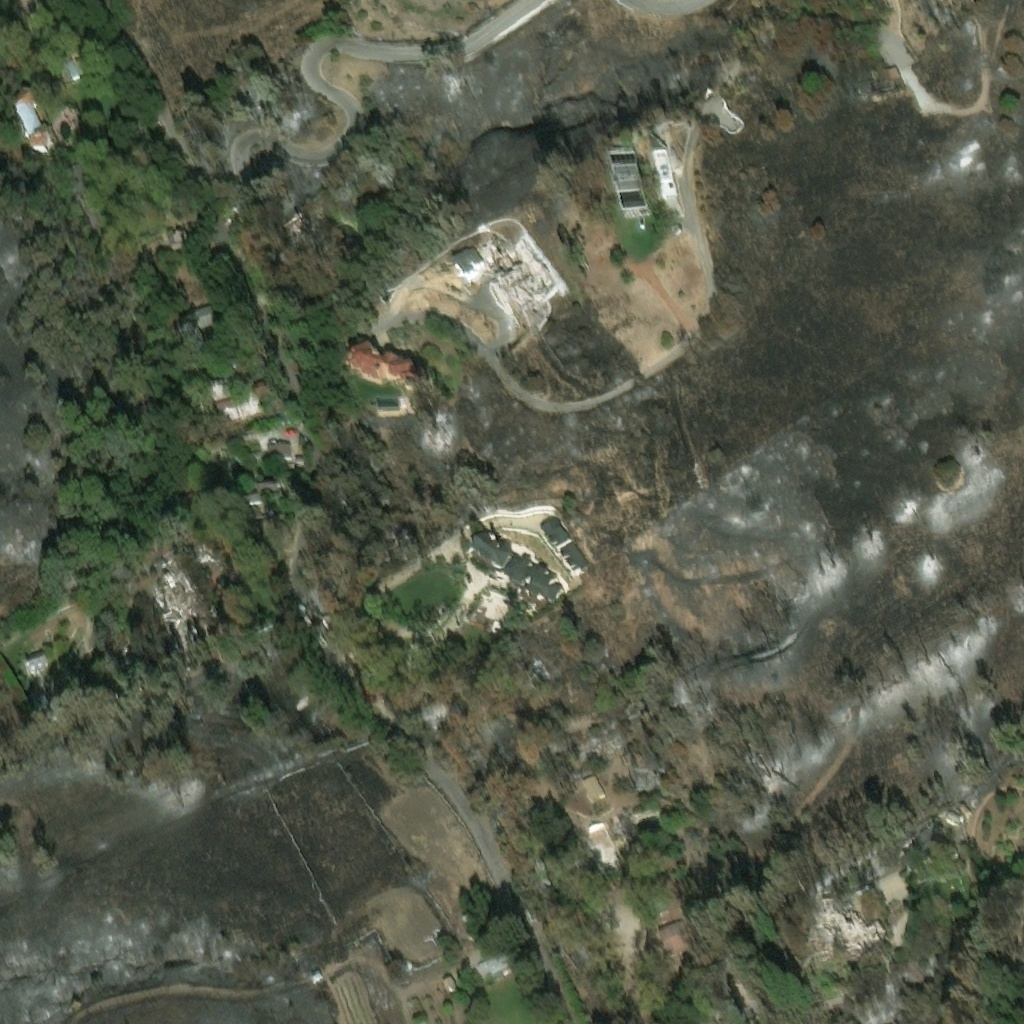0 no-damage: (469, 524, 559, 597), (6, 80, 60, 154), (215, 374, 282, 422), (348, 335, 417, 379), (172, 297, 217, 362), (606, 145, 646, 210), (467, 583, 515, 632), (656, 916, 692, 958), (448, 237, 480, 272), (538, 506, 568, 541), (556, 531, 586, 565), (154, 216, 189, 245), (207, 366, 236, 396), (244, 479, 280, 500), (580, 773, 604, 800), (264, 435, 291, 456), (58, 52, 79, 76), (25, 651, 47, 668), (943, 802, 959, 815), (442, 975, 455, 990), (955, 794, 968, 808)
3 destroyed: (150, 555, 217, 658), (483, 221, 549, 289), (819, 895, 886, 954), (892, 814, 950, 867), (584, 817, 619, 868), (578, 729, 625, 759), (625, 757, 649, 782), (398, 955, 410, 969), (310, 971, 322, 981)
4 un-classified: (66, 156, 100, 224), (198, 552, 229, 596), (115, 642, 147, 680), (282, 203, 310, 242), (252, 506, 286, 534), (19, 0, 50, 24), (54, 96, 77, 120), (403, 639, 422, 668), (728, 971, 747, 989), (381, 622, 412, 633), (290, 502, 302, 520)
